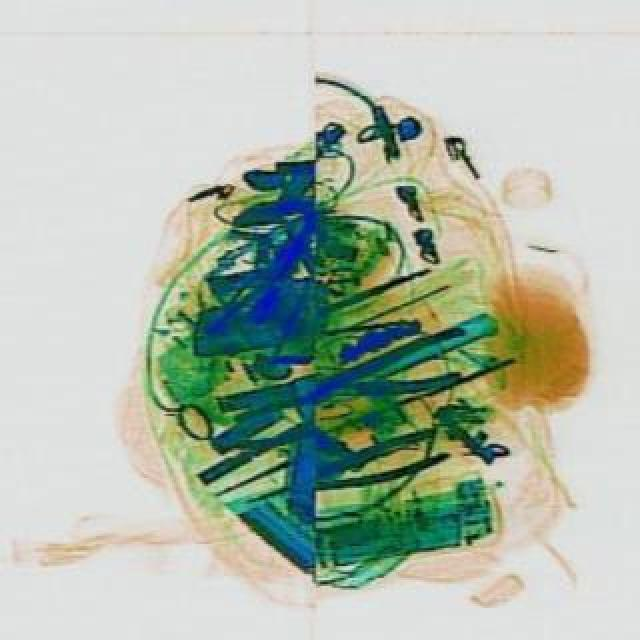wrench: (228, 322, 476, 444), (234, 420, 452, 522)
